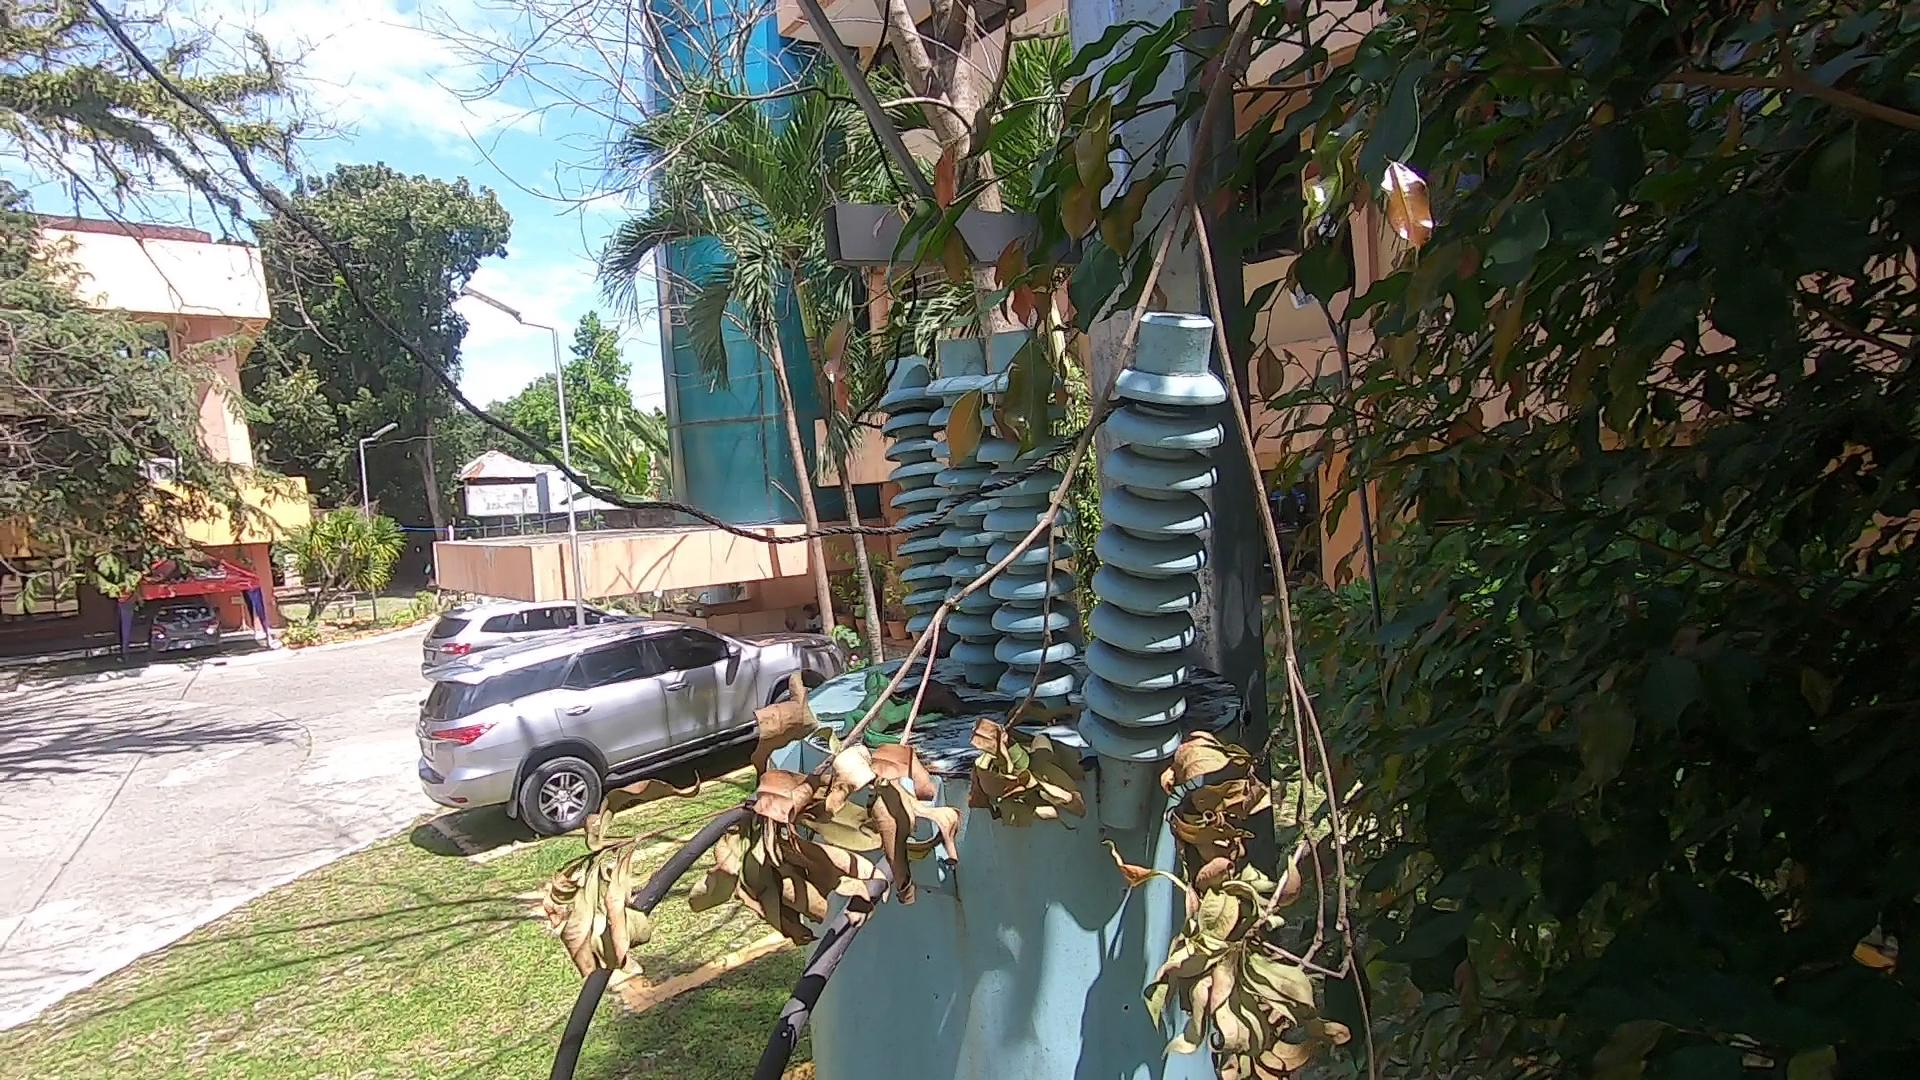branch with leaves: (531, 1, 1429, 1077)
